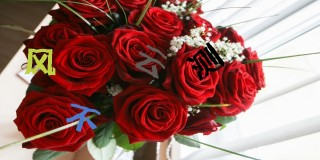不: (67, 103, 100, 131)
云: (135, 44, 167, 78)
测: (186, 43, 224, 80)
风: (25, 47, 56, 75)
